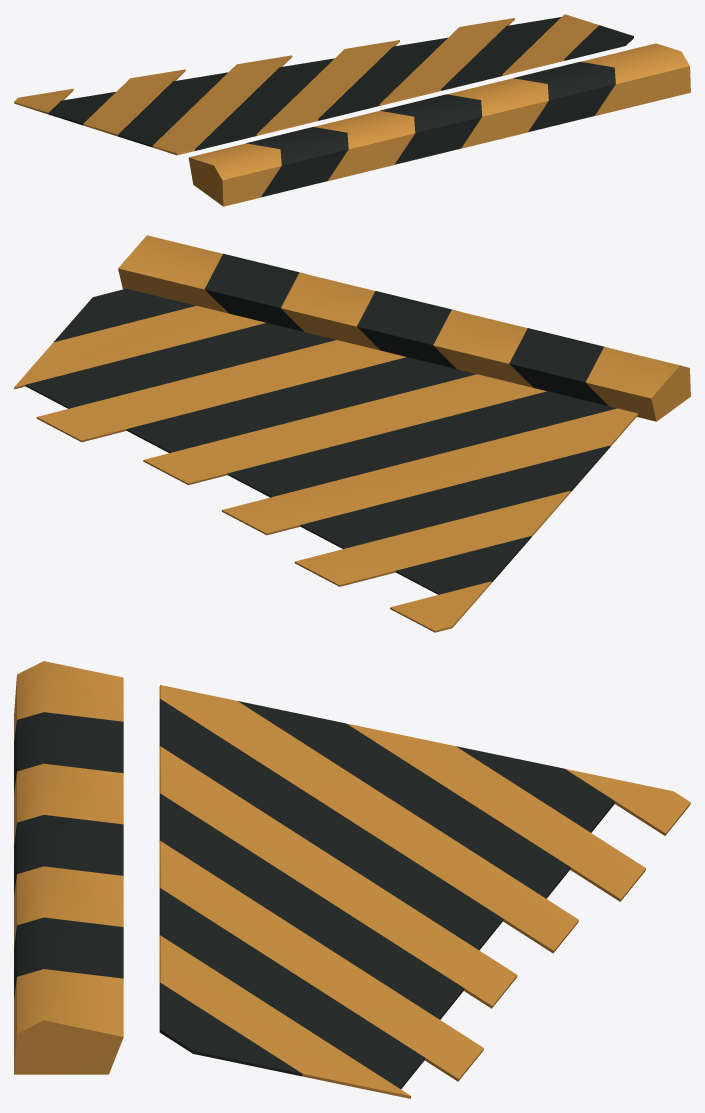
Rendered from kicker_wedge_stripes.glb.
The picture shows the model from 3 angles, top to bottom: view 1: azimuth 30°, elevation 25°; view 2: azimuth 150°, elevation 25°; view 3: azimuth 270°, elevation 25°; orthographic projection. The views are drawn at different scales.
Visible parts, largest first — view 1: Stripes; view 2: Stripes; view 3: Stripes.
Part boxes in pixels (<box>): Stripes: <box>14,14,690,206</box>; Stripes: <box>14,235,690,632</box>; Stripes: <box>14,661,690,1098</box>.
Bounding box in the file's own units: 5.7 × 1.01 × 4.54.
